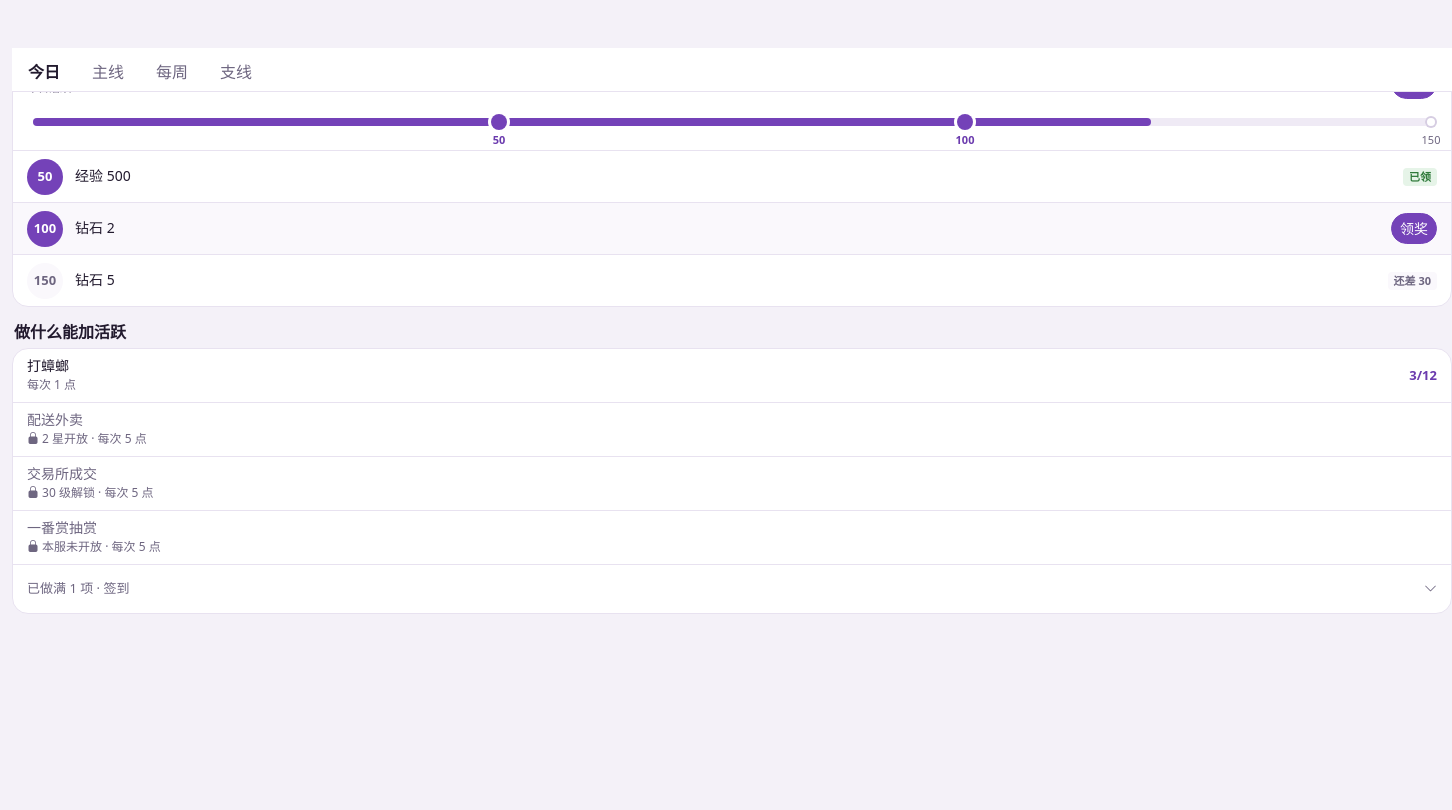
Test: 任务名里的 {n} 按区服数值代入（515 支线扩充 B 遗留：原来写死） › 不带 ?tab 时打开“今日”：签到和活跃在这里（界面改版 P2b）
Check: the button with test id "signin" is shown, box [1391,68,1437,99]
Click the tab with test id "tab-main". click: [108, 72]
box: [76,52,140,92]
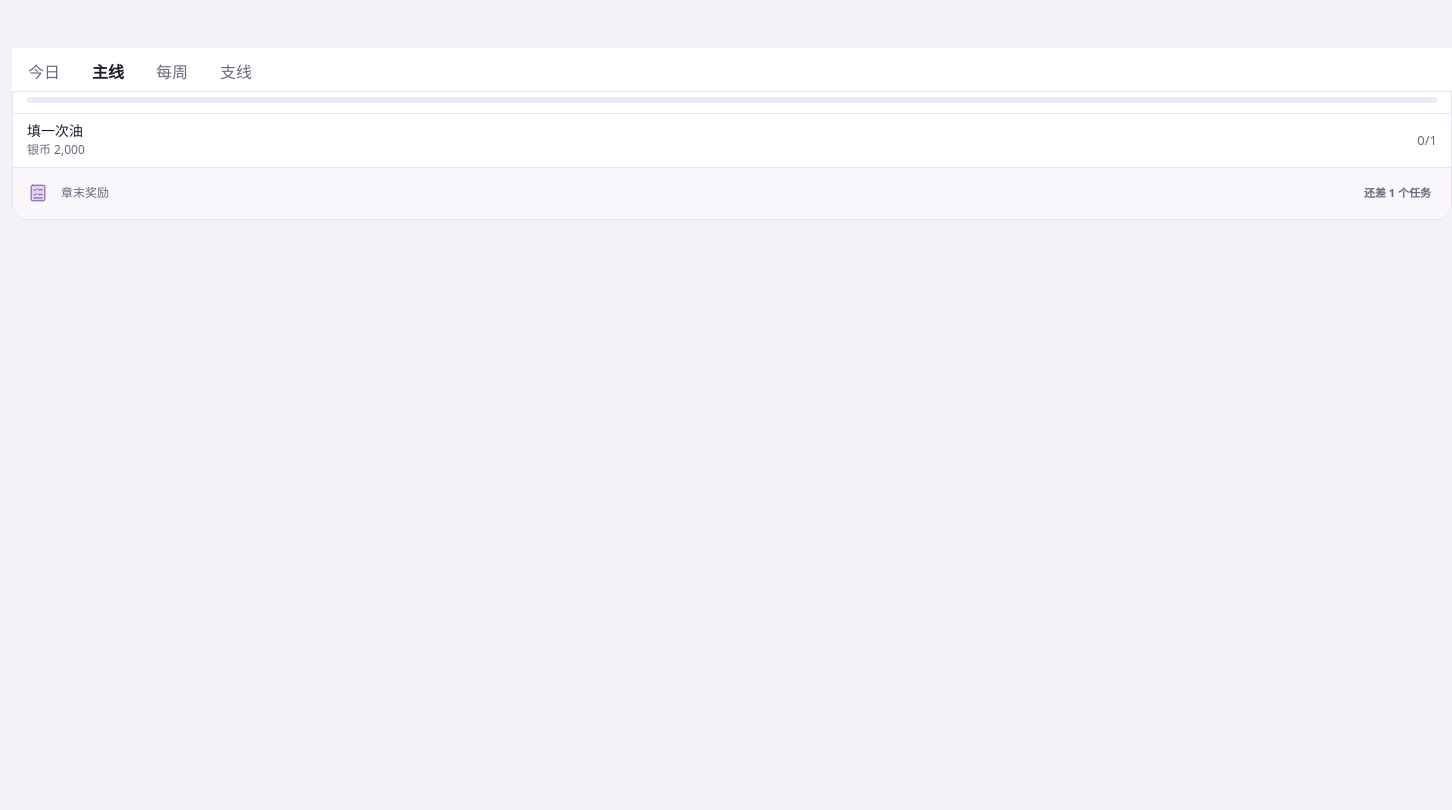
Check: the element with test id "card-main" is shown, box [12,52,1451,220]
